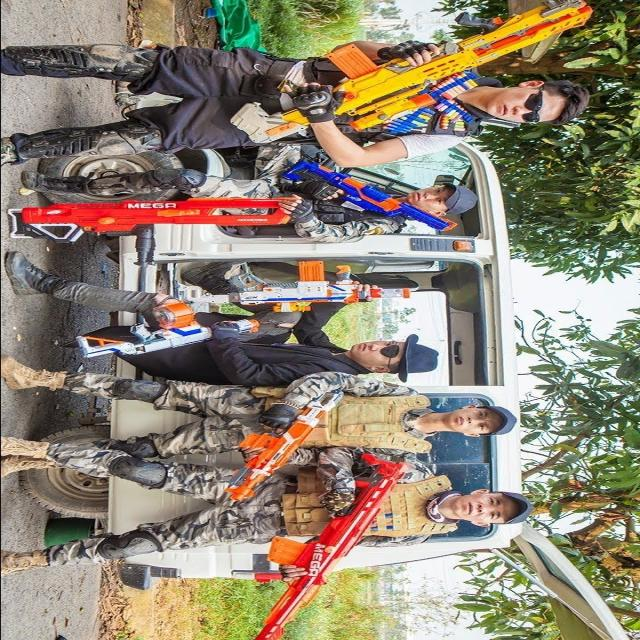Nerf gun: (223, 0, 609, 146), (243, 451, 409, 639), (2, 190, 311, 252), (218, 381, 352, 508), (274, 154, 464, 233), (170, 257, 424, 314), (67, 300, 265, 360)
